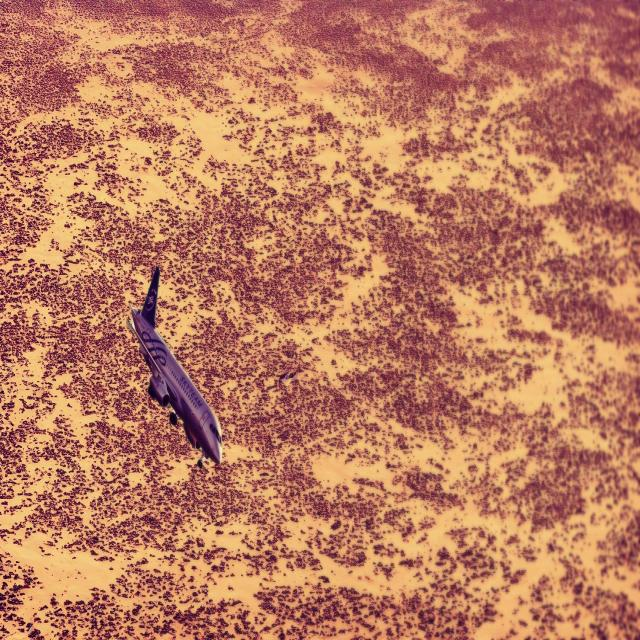airplane: (126, 265, 223, 466)
